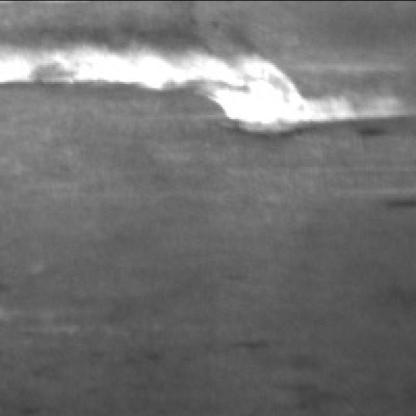inclusion: (282, 354, 352, 406)
scratches: (0, 31, 410, 131)
